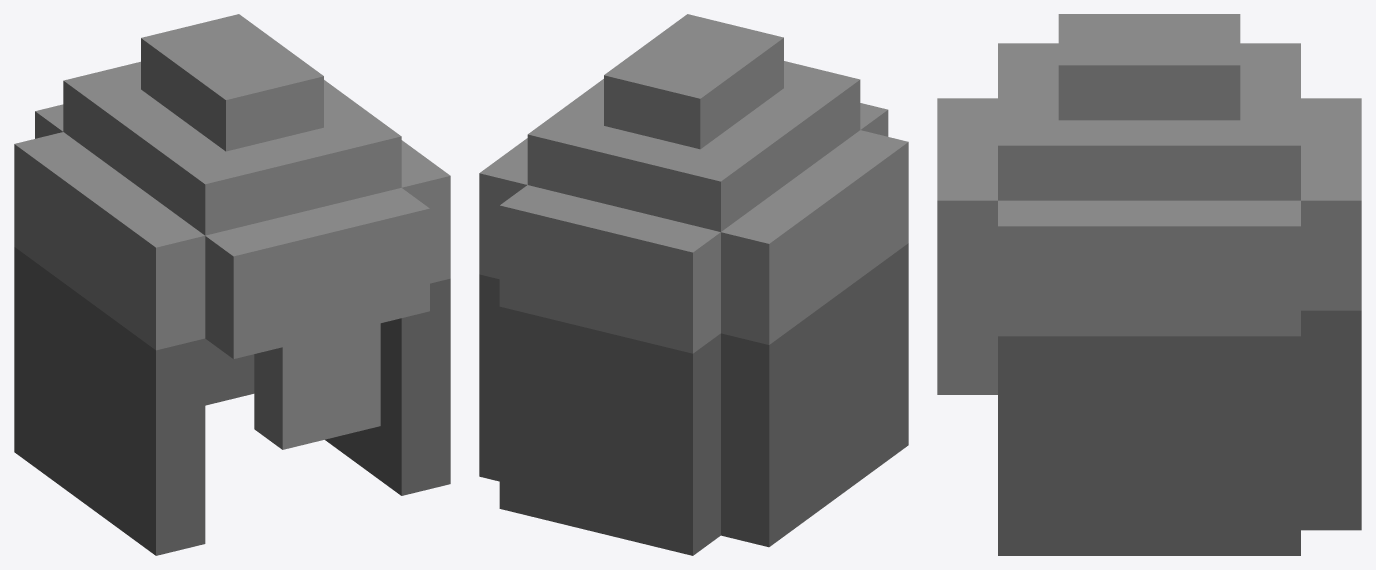
File: humanoid-165-helm_med_1d_sh.obj
The picture shows the model from 3 angles, left to right: view 1: azimuth 30°, elevation 25°; view 2: azimuth 150°, elevation 25°; view 3: azimuth 270°, elevation 25°; orthographic projection. The views are drawn at different scales.
Parts seen in each view (by area): view 1: helm_med_1d_sh; view 2: helm_med_1d_sh; view 3: helm_med_1d_sh.
Part boxes in pixels (x1,y1,x2,y2): helm_med_1d_sh: (14, 14, 450, 555); helm_med_1d_sh: (479, 14, 908, 555); helm_med_1d_sh: (937, 14, 1361, 555).
Size of the model in its own units: 0.6 by 0.8 by 0.7.
1 material, 1 textured.
